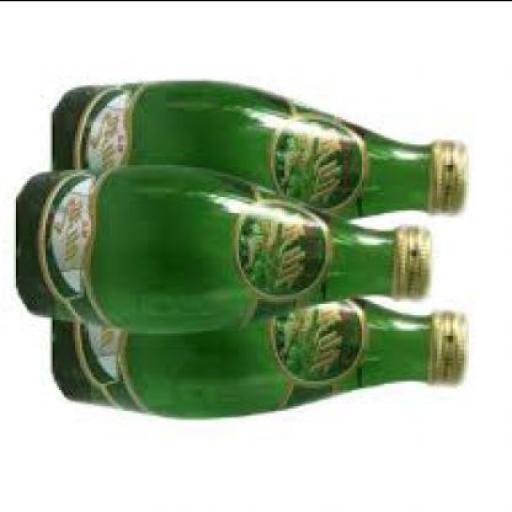glass: (18, 172, 394, 335), (55, 82, 430, 221), (54, 300, 432, 421)
metal: (430, 314, 472, 386), (429, 143, 469, 216), (400, 227, 439, 299)
